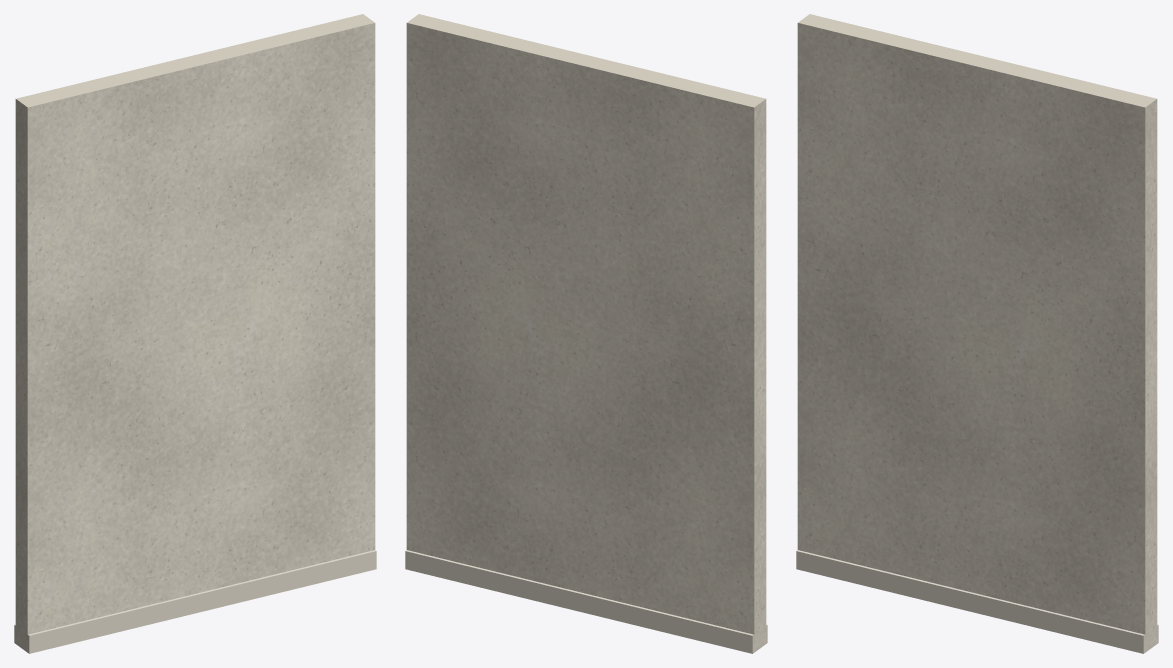
The model's file is interior_wall_plain_ground.glb.
3 renders of one model, left to right at view 1: azimuth 30°, elevation 25°; view 2: azimuth 150°, elevation 25°; view 3: azimuth 330°, elevation 25°, orthographic.
Visible parts, largest first — view 1: interior_wall_plain_ground_plaster, interior_wall_plain_ground_trim; view 2: interior_wall_plain_ground_plaster, interior_wall_plain_ground_trim; view 3: interior_wall_plain_ground_plaster, interior_wall_plain_ground_trim.
Part boxes in pixels (<box>): interior_wall_plain_ground_plaster: <box>15,14,375,652</box>; interior_wall_plain_ground_trim: <box>14,550,376,653</box>; interior_wall_plain_ground_plaster: <box>406,14,766,652</box>; interior_wall_plain_ground_trim: <box>405,550,767,653</box>; interior_wall_plain_ground_plaster: <box>797,14,1157,652</box>; interior_wall_plain_ground_trim: <box>796,550,1158,653</box>.
Size of the model in its own units: 2 by 3 by 0.15.
Materials: 2 (1 with a texture image).
